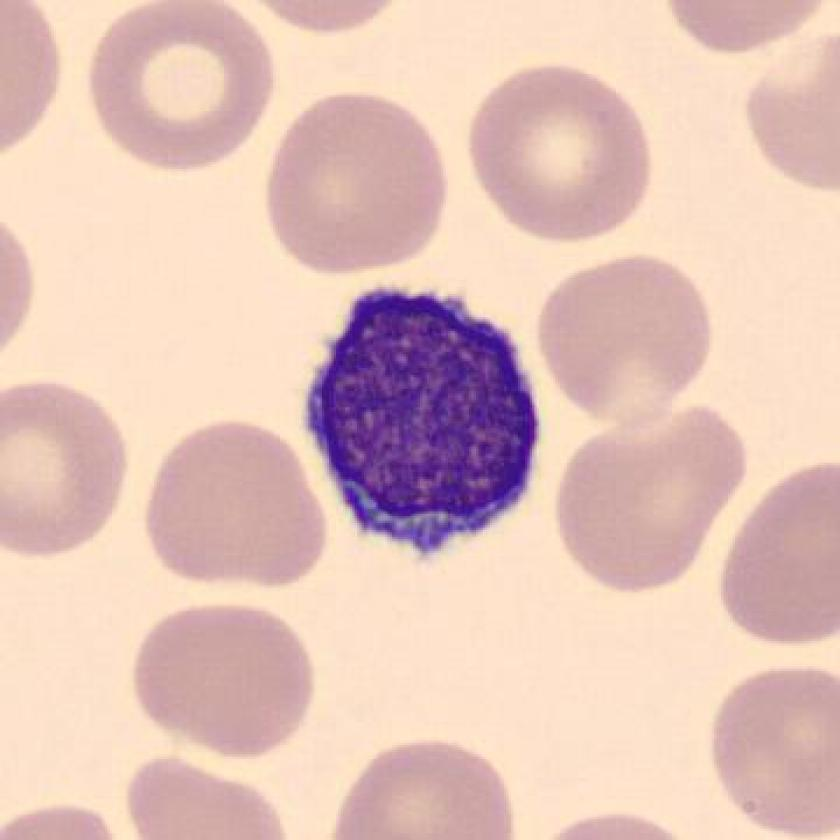lymphocyte: (293, 277, 554, 578)
